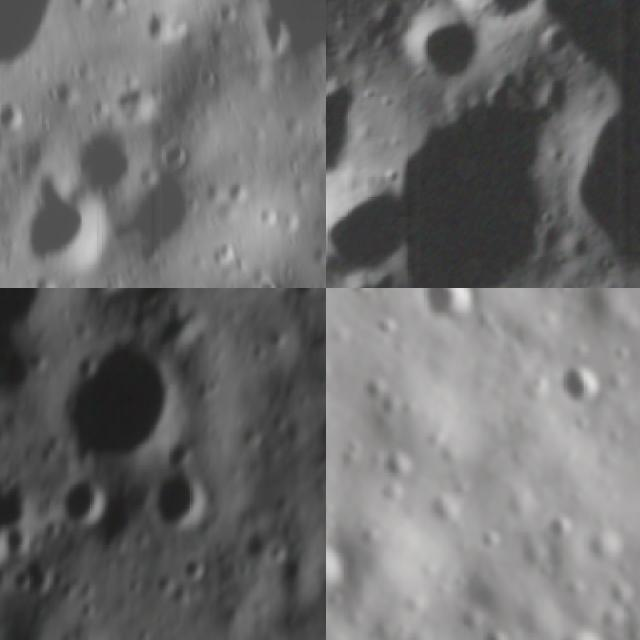crater: (56, 331, 172, 462), (21, 174, 130, 288), (326, 165, 413, 281), (126, 163, 225, 261), (66, 112, 162, 203), (233, 0, 326, 81), (404, 12, 486, 82), (540, 342, 616, 417), (138, 462, 210, 536), (359, 425, 428, 494), (326, 81, 368, 181), (326, 515, 368, 610), (400, 288, 486, 332), (50, 472, 107, 531), (527, 493, 585, 550), (530, 603, 619, 640), (0, 475, 33, 570), (466, 608, 529, 640), (436, 0, 550, 17), (0, 82, 35, 134), (142, 5, 187, 45), (318, 98, 326, 133)
